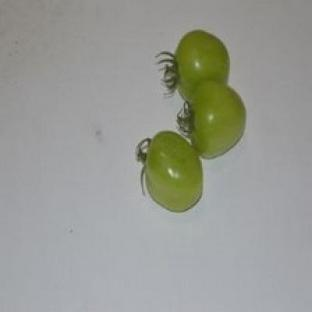Tomato: (137, 131, 203, 211), (179, 81, 246, 158), (159, 30, 229, 100)
